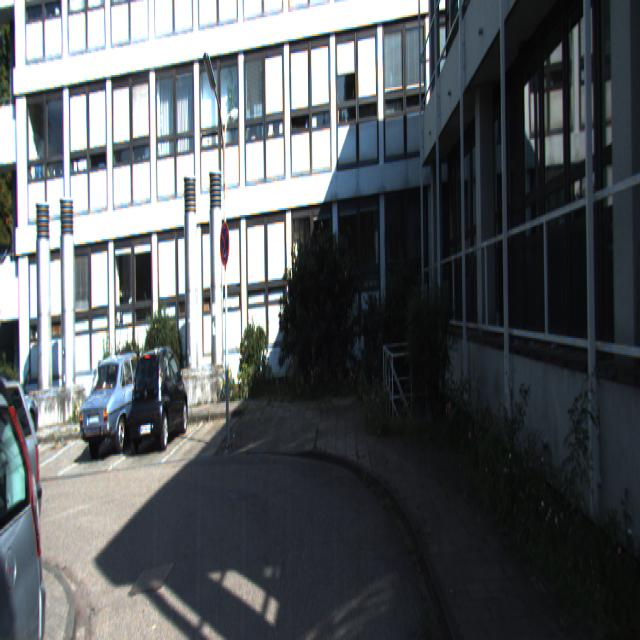Car: (0, 358, 66, 638), (0, 350, 52, 596), (78, 344, 157, 458), (128, 345, 188, 454), (0, 355, 43, 457)
